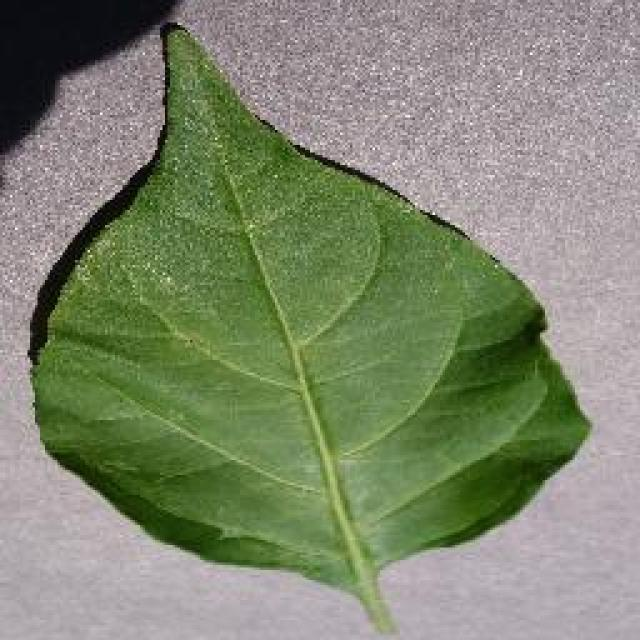Leaf: (180, 168, 506, 379), (206, 419, 519, 512), (83, 284, 141, 373)
